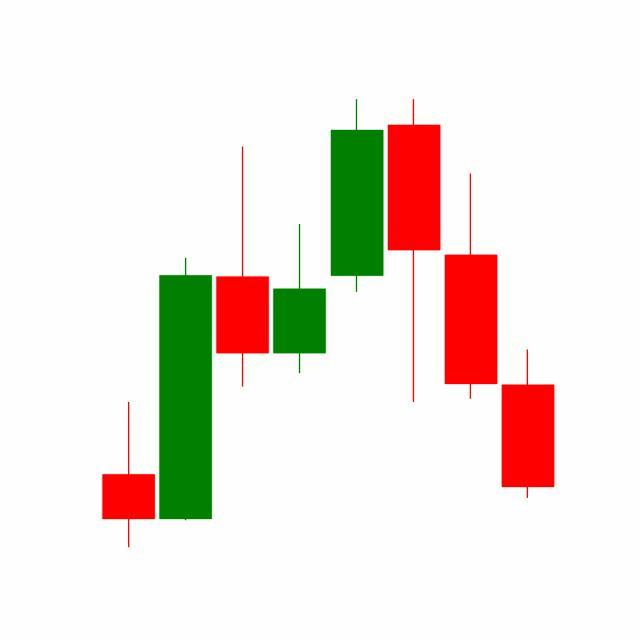Hikkake Pattern: (214, 99, 501, 407)
